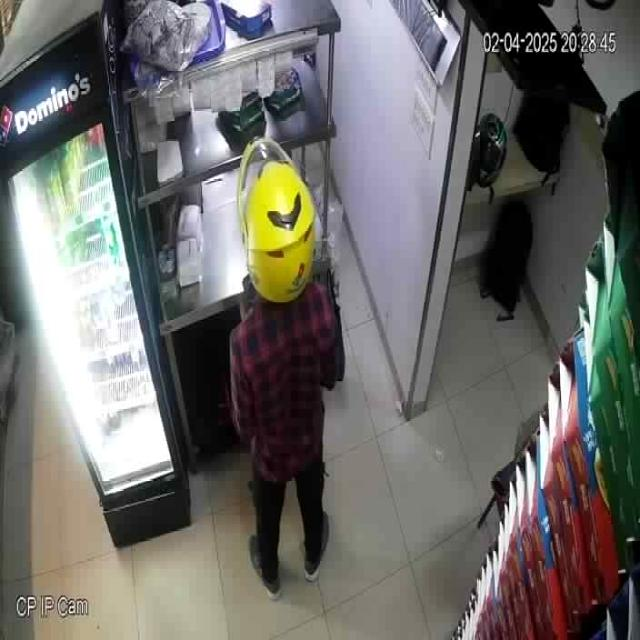helmet: (235, 136, 314, 306)
